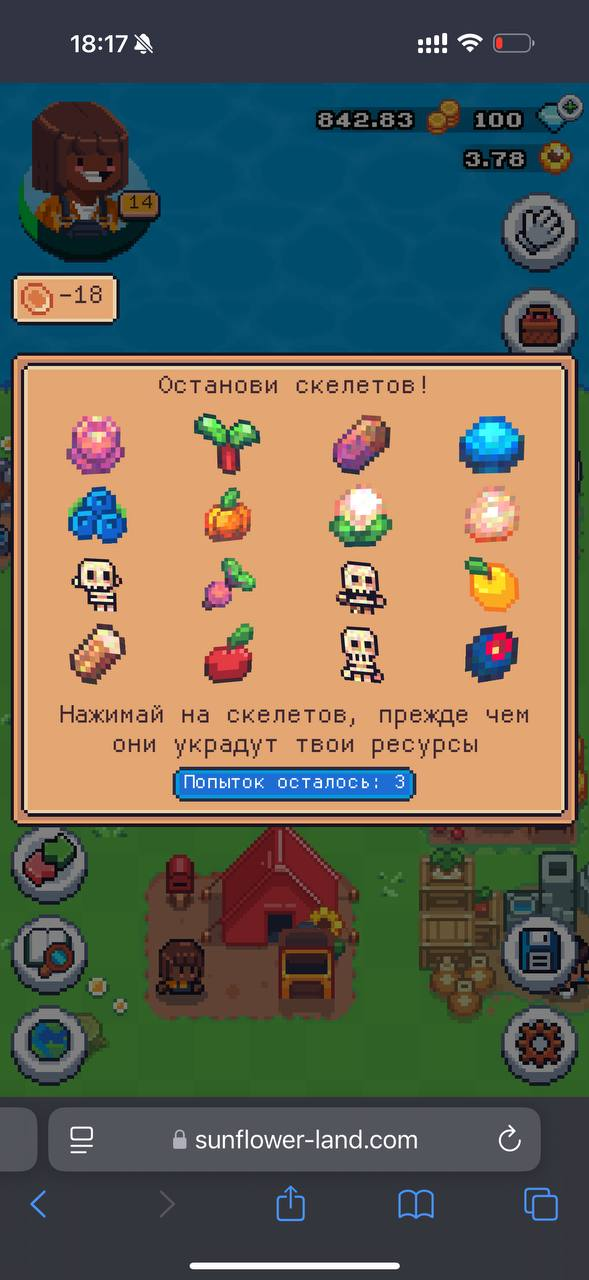capcha_sceleton: (335, 559, 388, 616), (69, 557, 121, 613), (339, 625, 385, 683)
